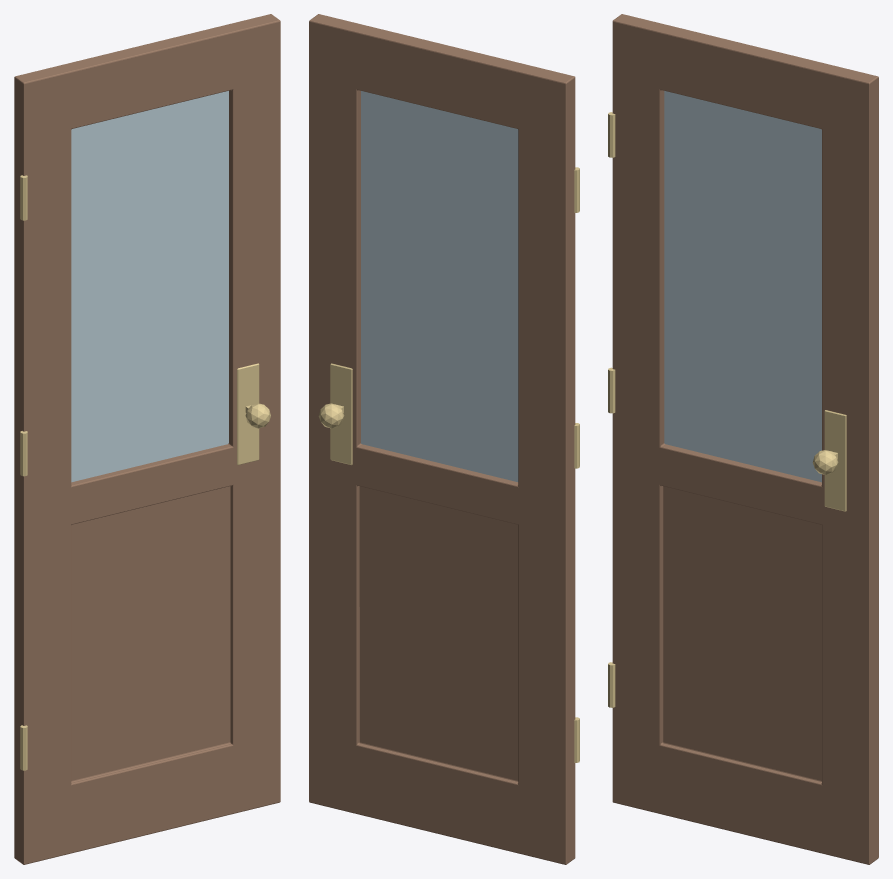
Rendered from door_leaf_drum_s.glb.
3 renders of one model, left to right at view 1: azimuth 30°, elevation 25°; view 2: azimuth 150°, elevation 25°; view 3: azimuth 330°, elevation 25°, orthographic.
Parts seen in each view (by area): view 1: door_leaf_drum_s_door, door_leaf_drum_s_glass, door_leaf_drum_s_brass; view 2: door_leaf_drum_s_door, door_leaf_drum_s_glass, door_leaf_drum_s_brass; view 3: door_leaf_drum_s_door, door_leaf_drum_s_glass, door_leaf_drum_s_brass.
Boxes of the visible parts, x1,y1,x2,y2 form: door_leaf_drum_s_door: [14, 14, 280, 864]; door_leaf_drum_s_glass: [71, 91, 228, 482]; door_leaf_drum_s_brass: [20, 175, 270, 770]; door_leaf_drum_s_door: [309, 14, 575, 864]; door_leaf_drum_s_glass: [361, 91, 518, 481]; door_leaf_drum_s_brass: [318, 167, 579, 762]; door_leaf_drum_s_door: [612, 14, 878, 864]; door_leaf_drum_s_glass: [664, 91, 821, 482]; door_leaf_drum_s_brass: [608, 112, 846, 707].
Size of the model in its own units: 0.704 by 2.02 by 0.205.
